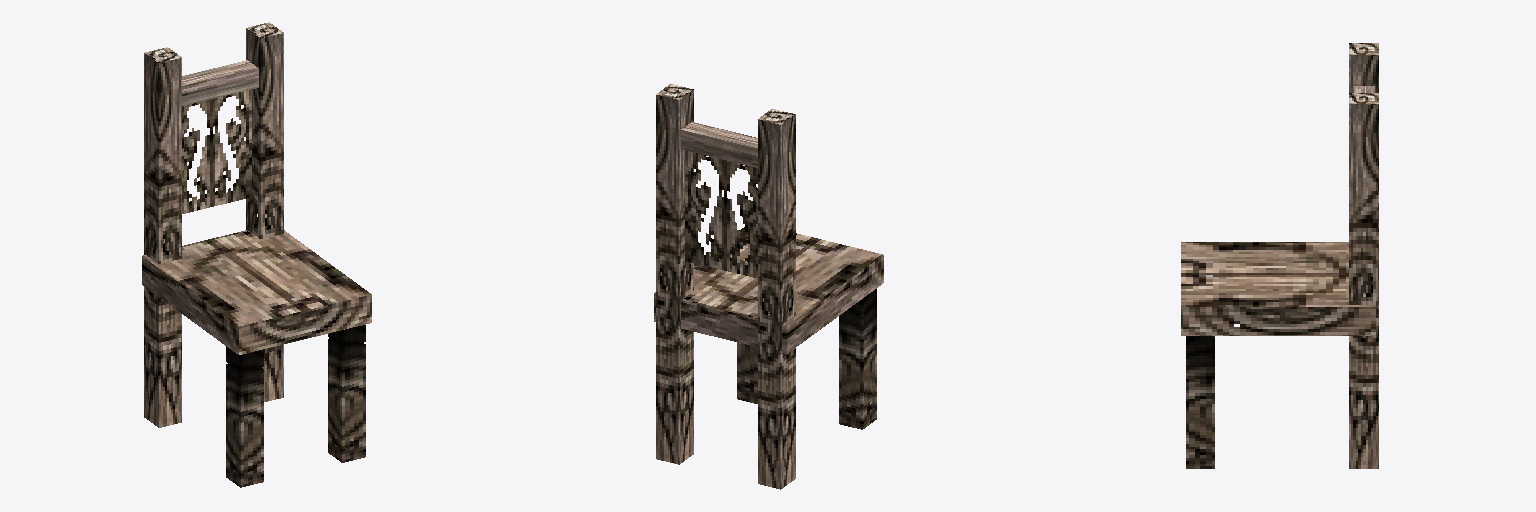
The picture shows the model from 3 angles: view 1: azimuth 30°, elevation 25°; view 2: azimuth 150°, elevation 25°; view 3: azimuth 270°, elevation 25°; orthographic projection.
Visible parts, largest first — view 1: Mesh_0, Mesh_1; view 2: Mesh_0, Mesh_1; view 3: Mesh_0.
Boxes of the visible parts, x1,y1,x2,y2 form: Mesh_0: [142, 22, 371, 487]; Mesh_1: [182, 90, 251, 213]; Mesh_0: [654, 84, 883, 489]; Mesh_1: [685, 151, 757, 278]; Mesh_0: [1181, 43, 1378, 468].
Bounding box in the file's own units: 0.4231 × 1.11 × 0.5434.
Materials: 2 (2 with a texture image).